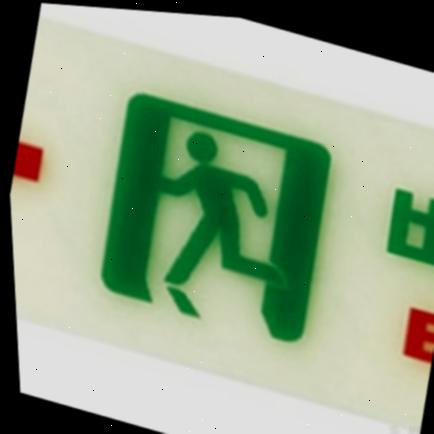emergency_exit: (8, 0, 434, 434), (99, 90, 333, 343), (385, 186, 434, 274)
